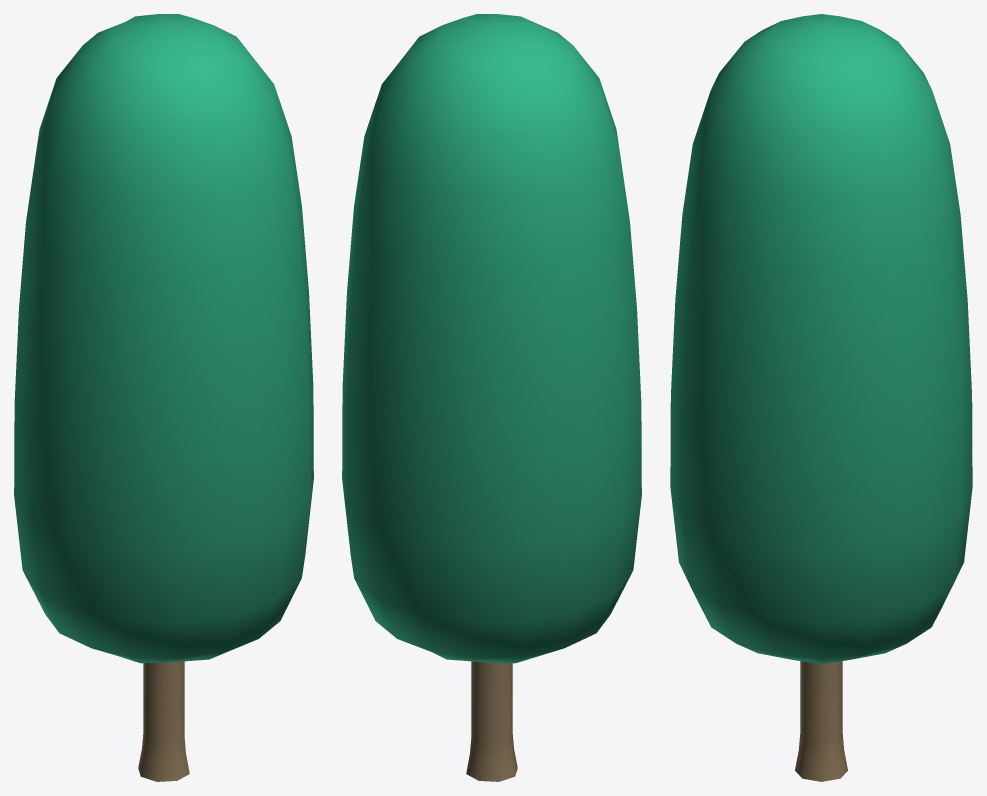
File: SM_Tree_Capsule_M.fbx
The picture shows the model from 3 angles, left to right: view 1: azimuth 30°, elevation 25°; view 2: azimuth 150°, elevation 25°; view 3: azimuth 270°, elevation 25°; orthographic projection.
Visible parts, largest first — view 1: SM_Tree_Capsule_M; view 2: SM_Tree_Capsule_M; view 3: SM_Tree_Capsule_M.
Part boxes in pixels (left/top/right/bottom): SM_Tree_Capsule_M: left=14, top=14, right=313, bottom=781; SM_Tree_Capsule_M: left=342, top=14, right=641, bottom=781; SM_Tree_Capsule_M: left=670, top=14, right=972, bottom=781.
Bounding box in the file's own units: 97.14 × 264 × 97.14.
